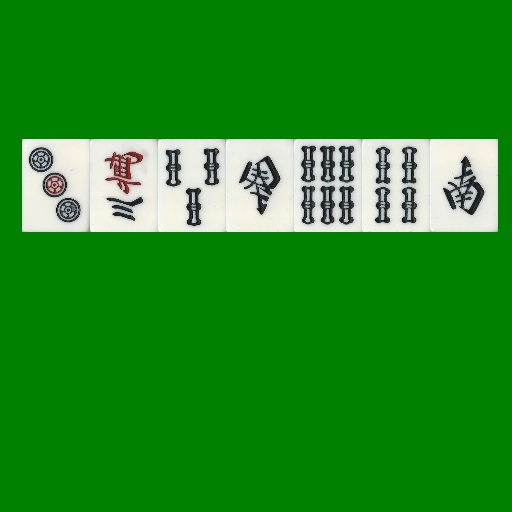3m: (90, 139, 158, 232)
3p: (22, 139, 90, 232)
3s: (158, 139, 226, 232)
4s: (362, 139, 430, 232)
6s: (294, 139, 362, 232)
south: (226, 139, 294, 232), (430, 139, 498, 232)
